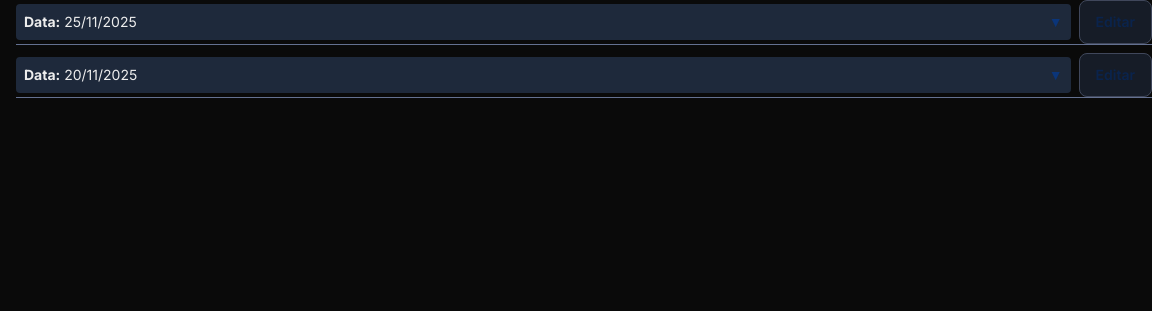
Test case: AttendancesDropdown › should collapse attendance when clicked again
Expand first
What coordinates should you click on to do the following:
click the button "Data: 25/11/2025 ▼"
I would click on:
 (42, 22)
Its box is top-left (16, 4), bottom-right (1070, 40).
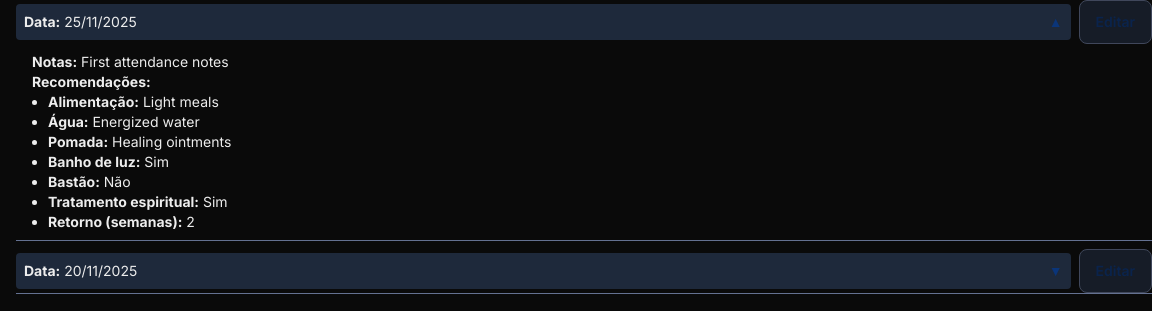
Now the text "▲" is shown, box top-left (1049, 12), bottom-right (1063, 32)
Collapse again
What coordinates should you click on to do the following:
click the button "Data: 25/11/2025 ▲"
I would click on:
 (42, 22)
Its box is top-left (16, 4), bottom-right (1070, 40).
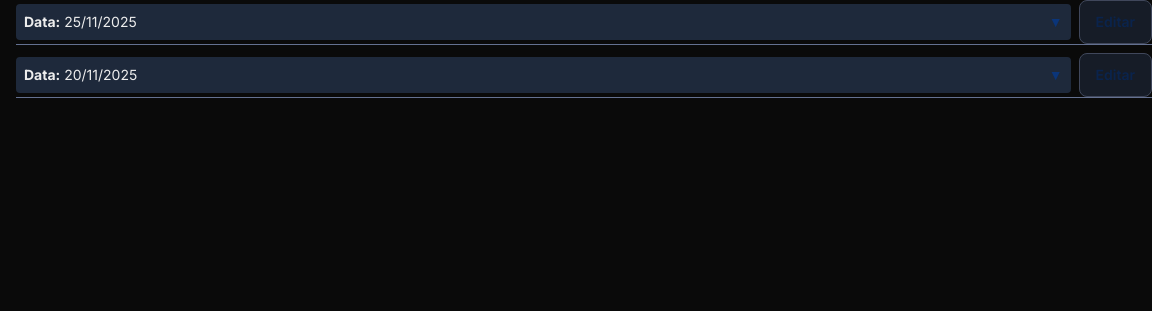
Expected: the text "▼" is shown 2 times, top-left (1049, 12), bottom-right (1063, 32); top-left (1049, 65), bottom-right (1063, 85)
Now the button "▲" is gone
